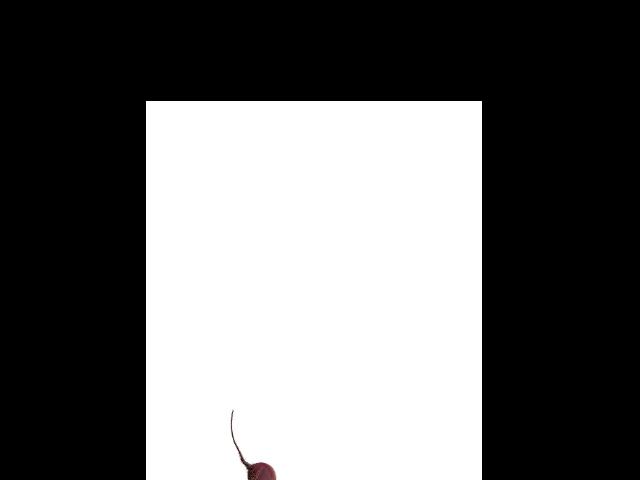beet: (230, 409, 284, 480)
